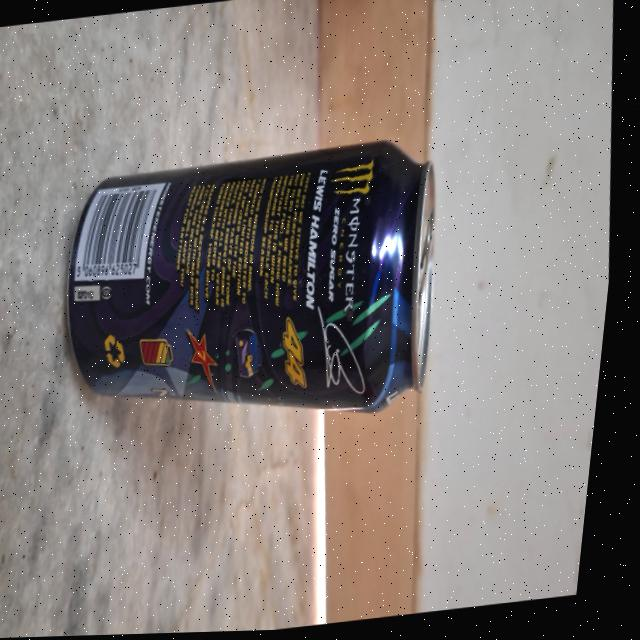Monster LH44: (39, 126, 457, 454)
